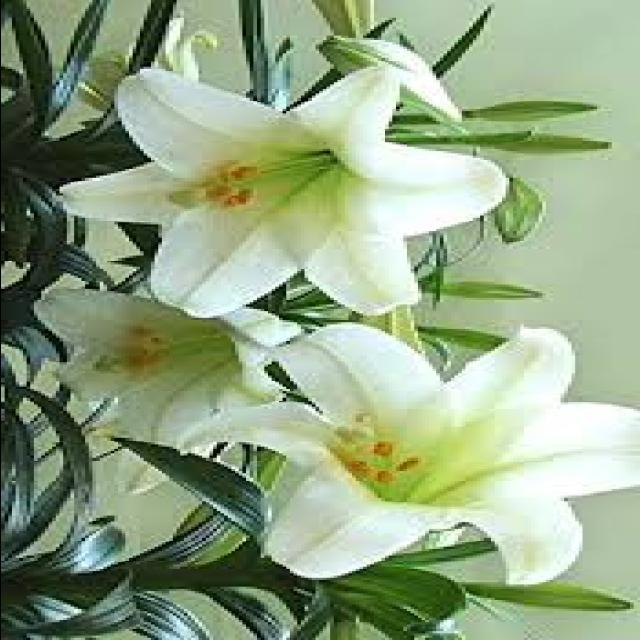lily: (44, 28, 494, 312), (214, 324, 632, 592)
